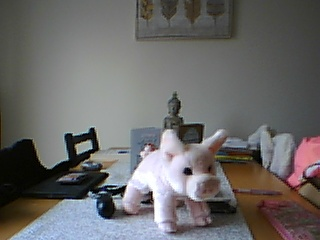piggy: (120, 127, 229, 234)
